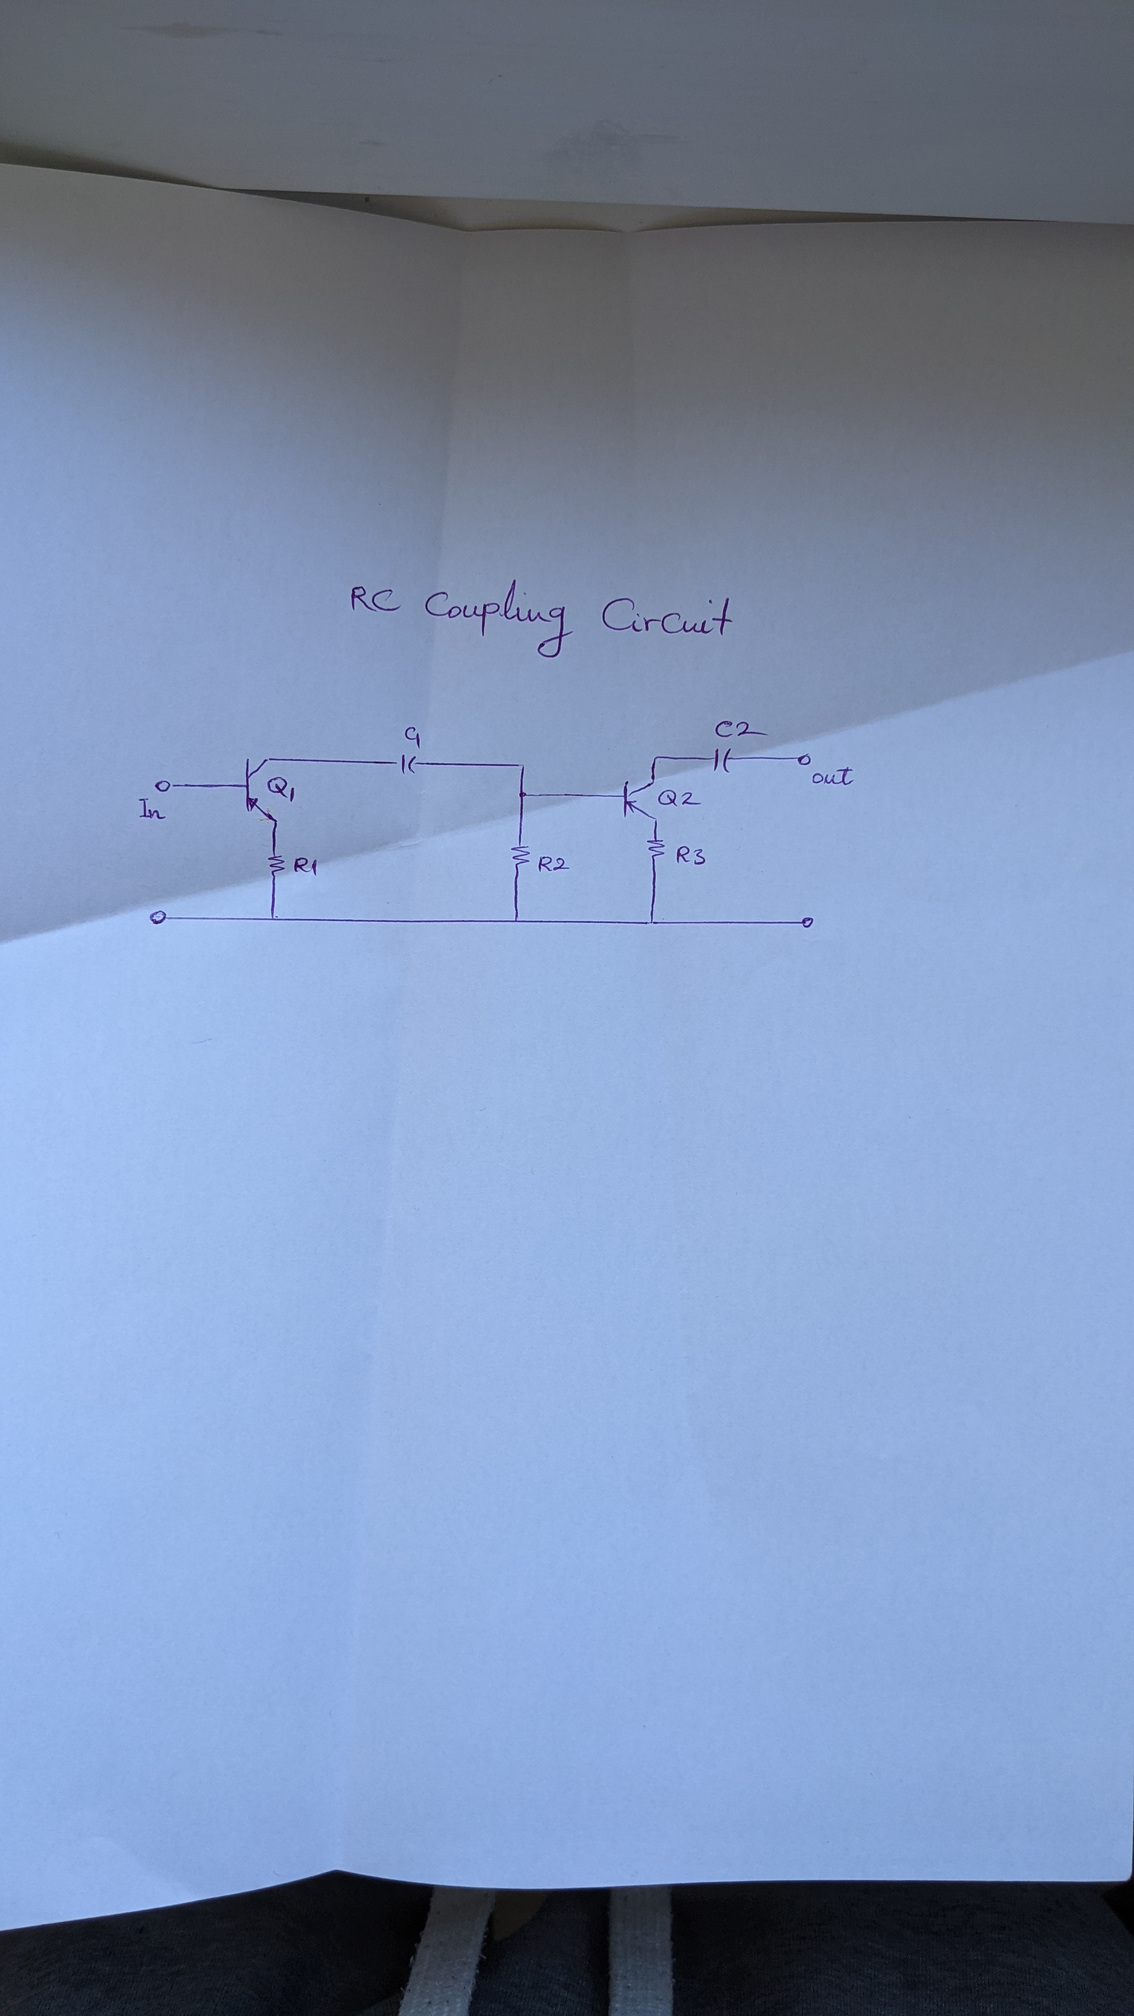capacitor.unpolarized: (708, 745, 734, 775), (393, 752, 424, 775)
junction: (267, 911, 280, 924), (647, 917, 658, 928), (512, 912, 522, 925), (516, 789, 528, 799), (651, 752, 660, 763), (515, 762, 528, 770)
resistor: (510, 842, 532, 871), (266, 852, 287, 879), (645, 838, 667, 863)
terminal: (147, 908, 170, 928), (152, 778, 174, 793), (795, 752, 811, 767), (799, 915, 816, 929)
text: (349, 575, 737, 660), (713, 719, 768, 739), (656, 786, 703, 809), (810, 764, 856, 786), (264, 775, 296, 803), (137, 796, 169, 822), (676, 845, 708, 865), (292, 854, 320, 878), (536, 854, 572, 872), (403, 724, 422, 750)
transistor: (244, 753, 280, 822), (620, 775, 660, 822)
